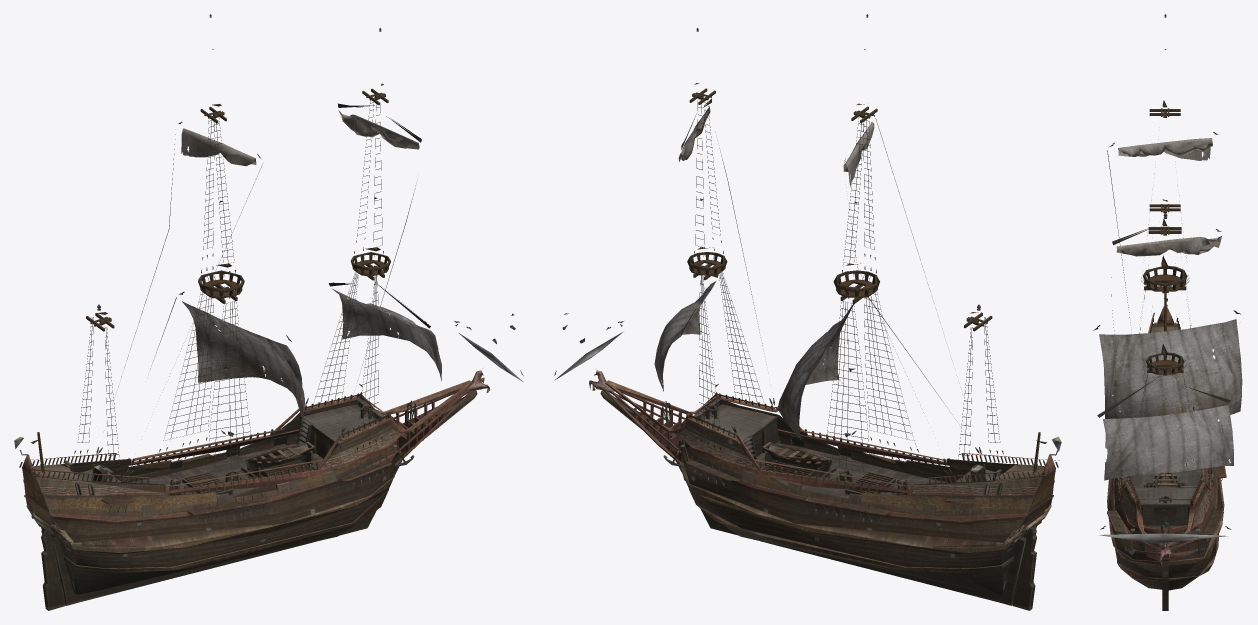
The model's file is ph_dutch_ship_medium_lod0.glb.
3 renders of one model, left to right at view 1: azimuth 30°, elevation 25°; view 2: azimuth 150°, elevation 25°; view 3: azimuth 270°, elevation 25°, orthographic. The views are drawn at different scales.
Parts seen in each view (by area): view 1: dutch_ship_medium_hull, dutch_ship_medium_rigging, dutch_ship_medium_sails; view 2: dutch_ship_medium_hull, dutch_ship_medium_rigging, dutch_ship_medium_sails; view 3: dutch_ship_medium_sails, dutch_ship_medium_hull, dutch_ship_medium_rigging.
Part boxes in pixels (bbox=[...]): dutch_ship_medium_hull: bbox=[14, 368, 490, 610]; dutch_ship_medium_rigging: bbox=[31, 14, 523, 523]; dutch_ship_medium_sails: bbox=[181, 110, 441, 425]; dutch_ship_medium_hull: bbox=[589, 369, 1061, 610]; dutch_ship_medium_rigging: bbox=[554, 14, 1046, 523]; dutch_ship_medium_sails: bbox=[654, 106, 874, 439]; dutch_ship_medium_sails: bbox=[1099, 138, 1242, 480]; dutch_ship_medium_hull: bbox=[1104, 294, 1226, 610]; dutch_ship_medium_rigging: bbox=[1093, 14, 1240, 555].
Size of the model in its own units: 23.17 by 24.66 by 6.49.
Materials: 3 (3 with a texture image).
